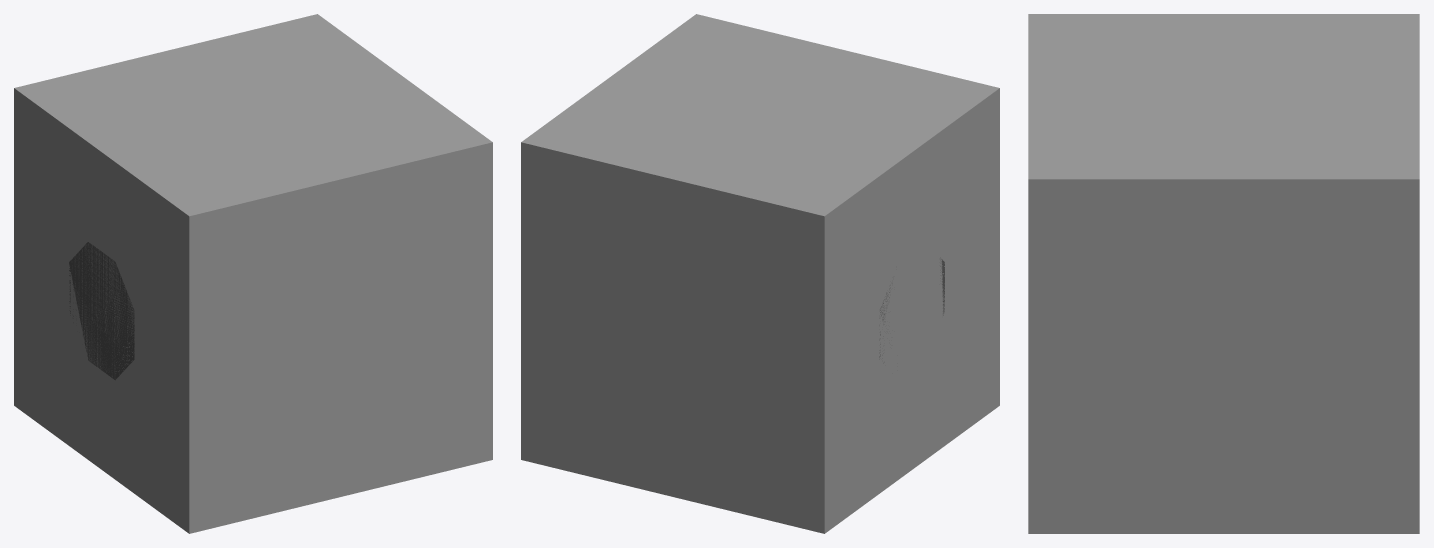
File: ProximitySensor.obj
3 renders of one model, left to right at view 1: azimuth 30°, elevation 25°; view 2: azimuth 150°, elevation 25°; view 3: azimuth 270°, elevation 25°, orthographic. The views are drawn at different scales.
Visible parts, largest first — view 1: Minecraft_Block_Cube, Minecraft_2_Edge_Connectivity_Cube.002, Detector; view 2: Minecraft_Block_Cube, Minecraft_2_Edge_Connectivity_Cube.002; view 3: Minecraft_Block_Cube, Minecraft_2_Edge_Connectivity_Cube.002.
Boxes of the visible parts, x1,y1,x2,y2 form: Minecraft_Block_Cube: [15, 14, 492, 533]; Minecraft_2_Edge_Connectivity_Cube.002: [14, 88, 252, 533]; Detector: [69, 242, 134, 380]; Minecraft_Block_Cube: [521, 14, 998, 533]; Minecraft_2_Edge_Connectivity_Cube.002: [760, 88, 999, 533]; Minecraft_Block_Cube: [1028, 14, 1419, 533]; Minecraft_2_Edge_Connectivity_Cube.002: [1029, 14, 1418, 96].
Size of the model in its own units: 1 by 1 by 1.
Materials: 2 (1 with a texture image).
